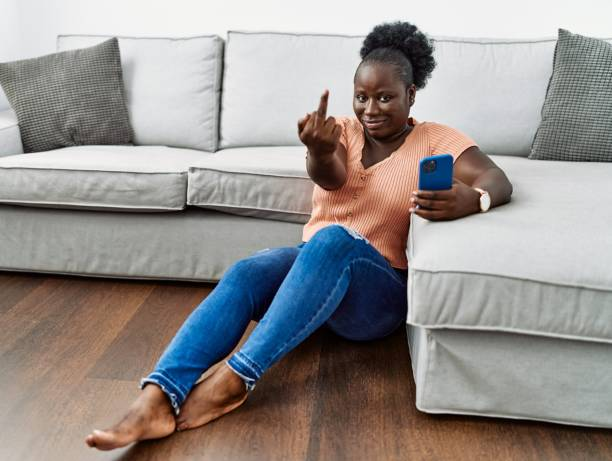insulting_gesture: (296, 87, 344, 156)
